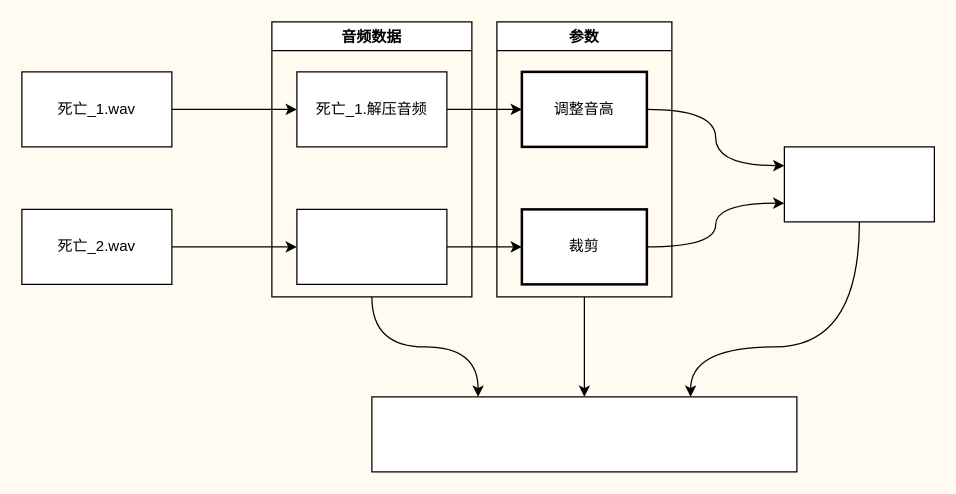
This 956x494 diagram has some shape labels left out. The shapes that lost their labels are listed below. From the top down, each one's centre as x and y in pixels, then its label:
At (x=858, y=184): "死亡 Event".
At (x=371, y=246): "死亡_2.解压音频".
At (x=584, y=434): "game.bank".
